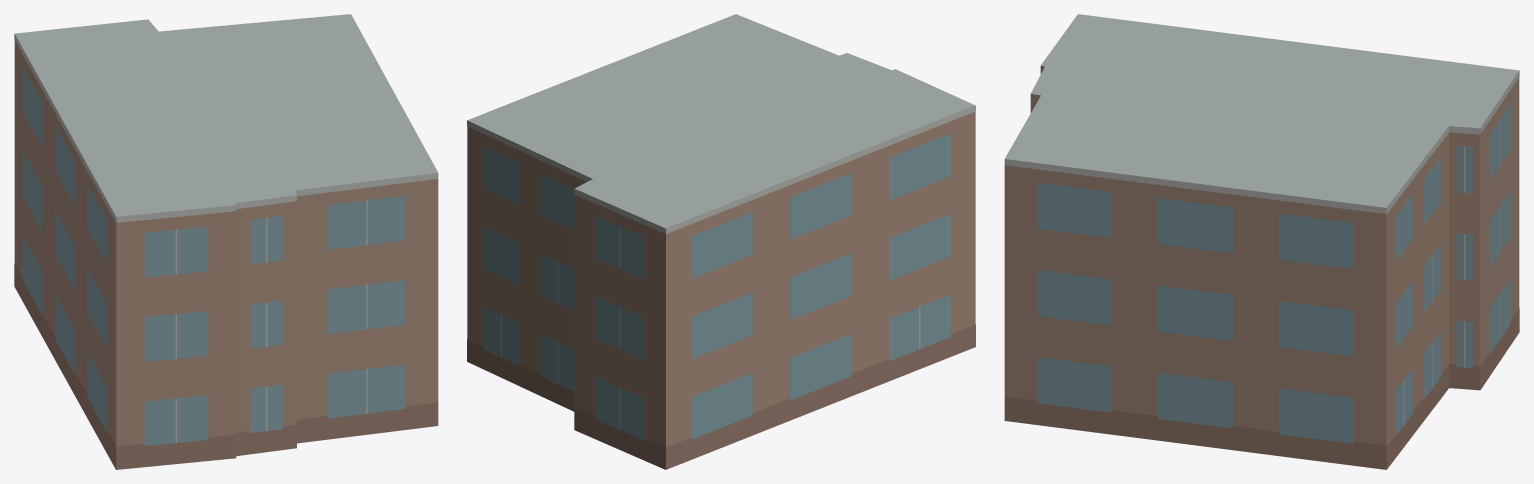
Rendered from survey-upis-32535347.glb.
The picture shows the model from 3 angles, left to right: view 1: azimuth 30°, elevation 25°; view 2: azimuth 150°, elevation 25°; view 3: azimuth 270°, elevation 25°; orthographic projection. The views are drawn at different scales.
Parts seen in each view (by area): view 1: survey-upis-32535347.tmp; view 2: survey-upis-32535347.tmp; view 3: survey-upis-32535347.tmp.
Part boxes in pixels (x1,y1,x2,y2): survey-upis-32535347.tmp: (14,14,438,469); survey-upis-32535347.tmp: (467,14,975,469); survey-upis-32535347.tmp: (1004,14,1519,469).
Bounding box in the file's own units: 16.21 × 10.2 × 18.18.
